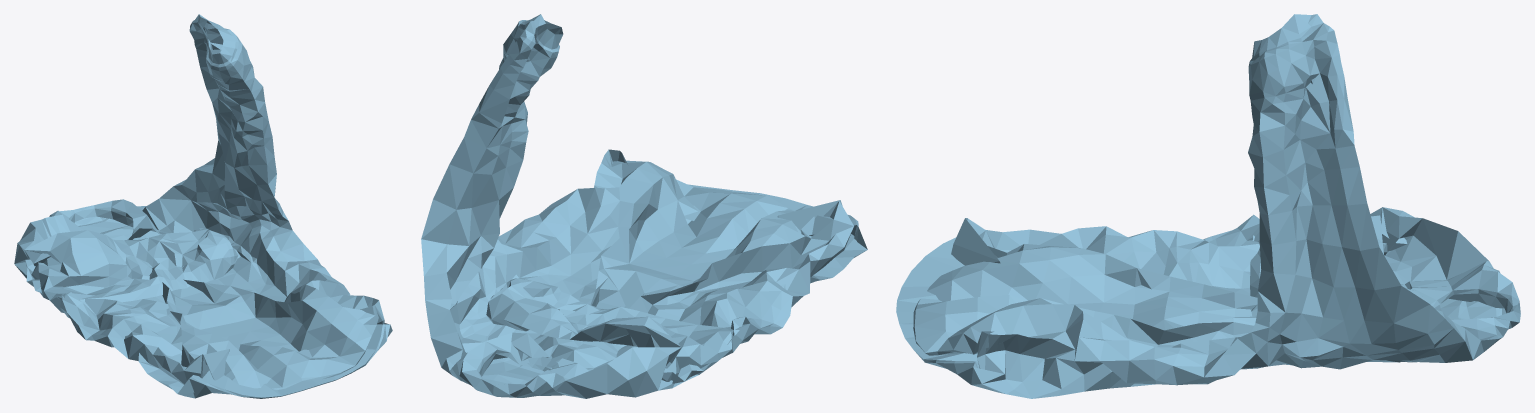
Rendered from frame_13.glb.
3 views of the same model, side by side, from view 1: azimuth 30°, elevation 25°; view 2: azimuth 150°, elevation 25°; view 3: azimuth 270°, elevation 25° (orthographic). The views are drawn at different scales.
Parts seen in each view (by area): view 1: frame_13.obj; view 2: frame_13.obj; view 3: frame_13.obj.
Part boxes in pixels (box(x1,y1,x2,y2)): frame_13.obj: box(14, 14, 392, 398); frame_13.obj: box(421, 14, 867, 398); frame_13.obj: box(896, 14, 1520, 398).
Size of the model in its own units: 0.9431 by 1.01 by 1.59.
